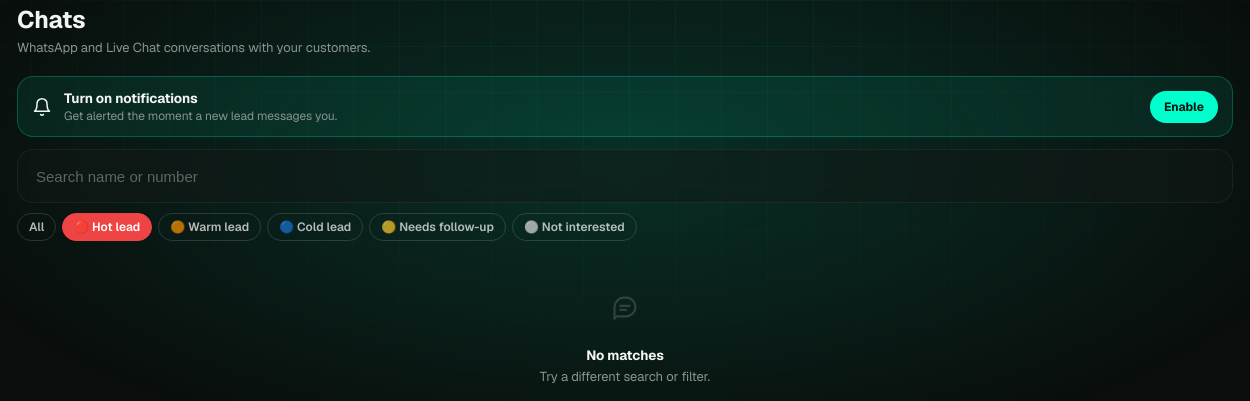
Test case: Chats › falls back to a label for unnamed Live Chat threads
Click the button "All" at (37, 227), box [17, 213, 56, 241]
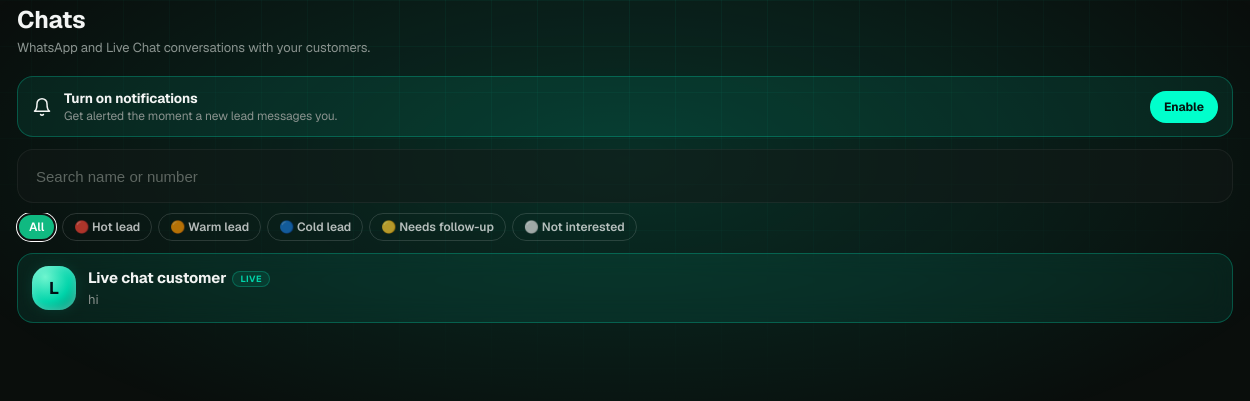
expect the text "Live chat customer" is shown: met, box [88, 268, 226, 287]
